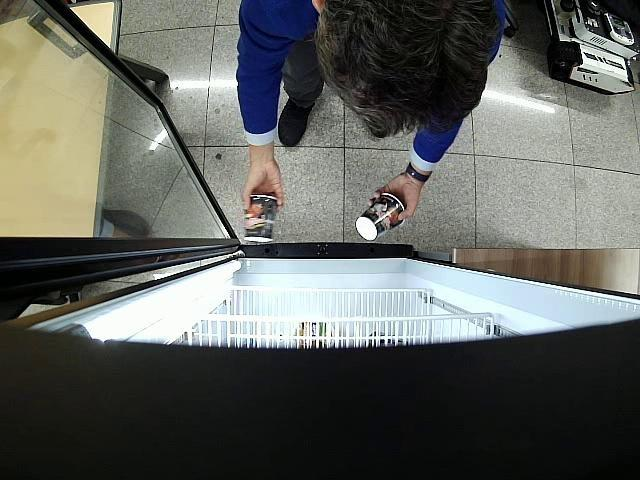08_buldak_S: (355, 192, 405, 241), (244, 194, 278, 243)
